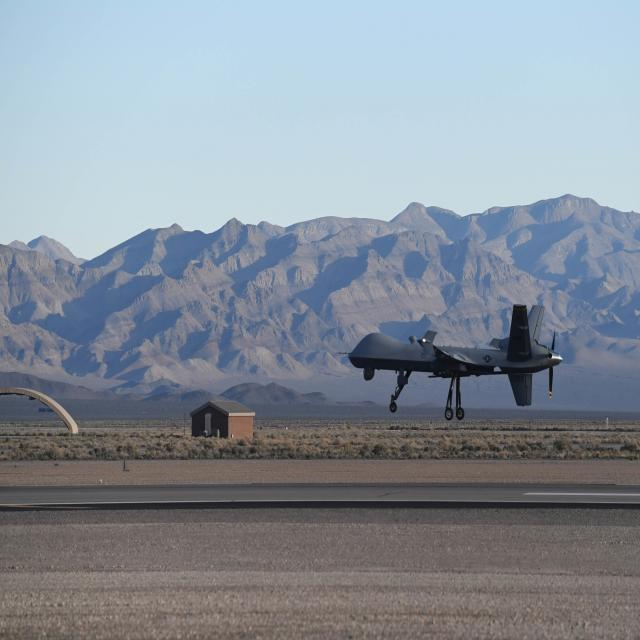MIL_Plane: (336, 304, 563, 421)
